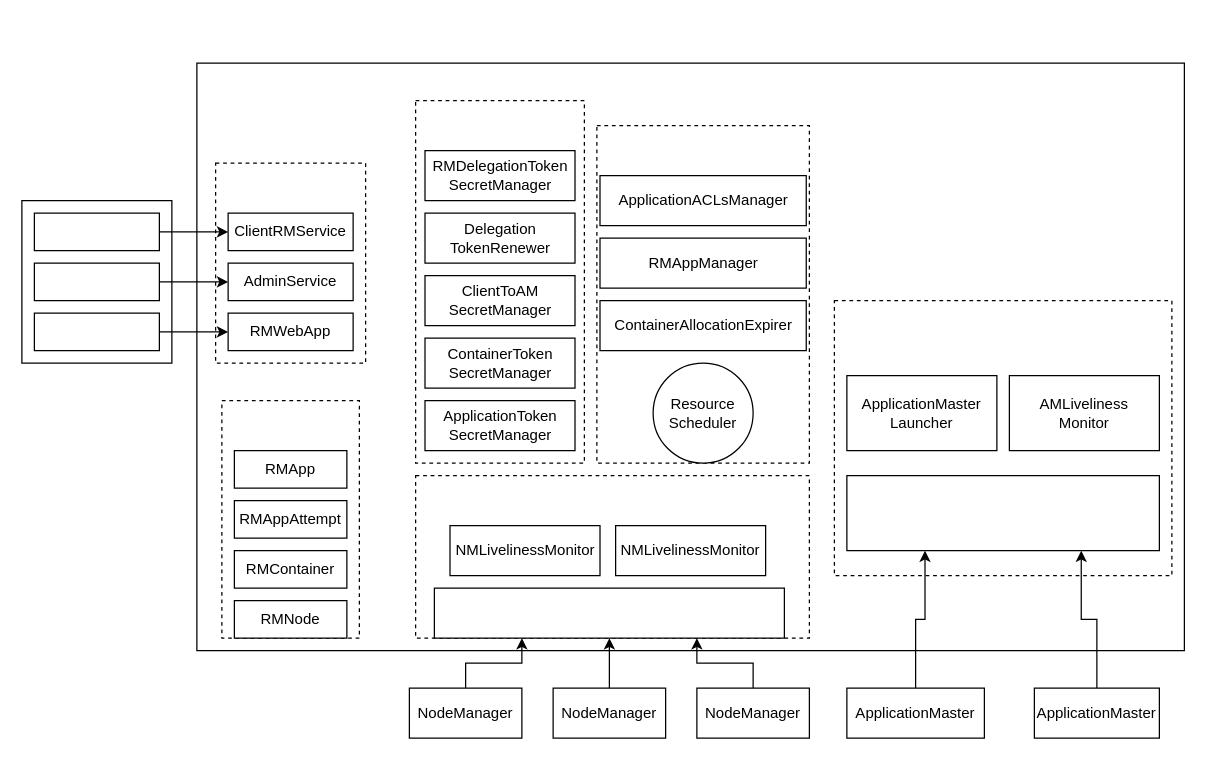
The diagram is 1206 pixels wide and 760 high, and some of its shapes have lost their labels. Each missing label, with the box of its shape:
Admin User: (33, 262, 159, 301)
ApplicationMasterService: (846, 474, 1159, 551)
Manage AMs: (833, 299, 1172, 576)
Manage Apps: (596, 124, 809, 463)
Manage NMs: (414, 474, 809, 638)
Normal User: (33, 212, 159, 251)
ResourceTrackerService: (433, 587, 784, 638)
Security: (414, 99, 584, 463)
State Machine: (221, 399, 359, 638)
User Service: (214, 162, 366, 363)
Web UI: (33, 312, 159, 351)
